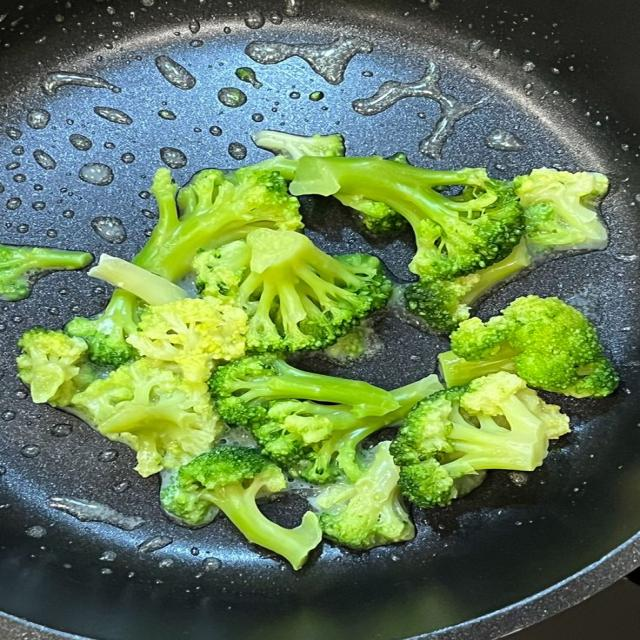broccoli: (405, 169, 607, 332), (290, 157, 522, 279), (194, 229, 391, 351), (391, 372, 569, 506), (244, 376, 441, 483), (134, 159, 301, 281), (134, 163, 301, 281), (161, 446, 321, 569), (440, 296, 619, 397), (70, 358, 223, 476), (210, 354, 399, 425), (405, 239, 531, 332), (312, 442, 415, 549), (127, 297, 246, 382), (514, 168, 608, 251), (17, 328, 94, 406), (65, 290, 139, 366), (0, 245, 93, 301), (88, 254, 187, 305), (334, 192, 406, 234), (252, 130, 345, 160), (253, 130, 345, 160), (323, 319, 379, 363)
